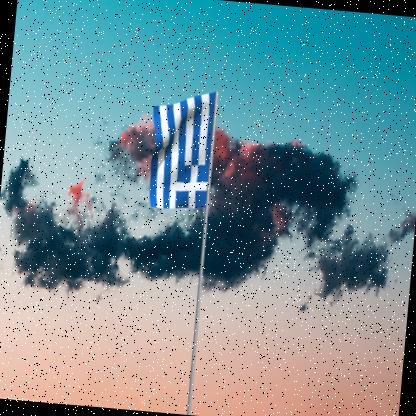gr: (146, 90, 217, 215)
